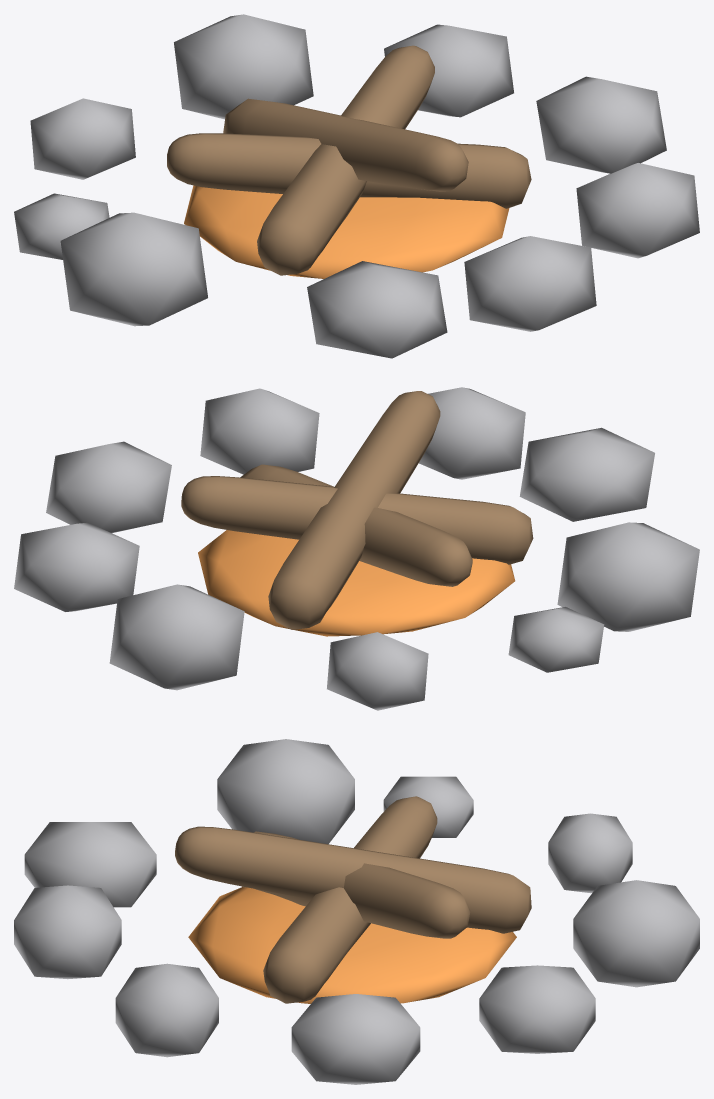
File: village.fire.glb
The picture shows the model from 3 angles, top to bottom: view 1: azimuth 30°, elevation 25°; view 2: azimuth 150°, elevation 25°; view 3: azimuth 270°, elevation 25°; orthographic projection. The views are drawn at different scales.
Parts seen in each view (by area): view 1: Stone, Log, Ember; view 2: Stone, Log, Ember; view 3: Stone, Log, Ember.
Boxes of the visible parts, x1,y1,x2,y2 form: Stone: [14, 14, 699, 358]; Log: [167, 45, 531, 275]; Ember: [184, 185, 509, 278]; Stone: [14, 387, 699, 710]; Log: [181, 391, 533, 629]; Ember: [198, 530, 515, 636]; Stone: [14, 739, 699, 1084]; Log: [175, 796, 531, 1003]; Ember: [188, 887, 516, 1003].
Size of the model in its own units: 1.03 by 0.2383 by 1.
